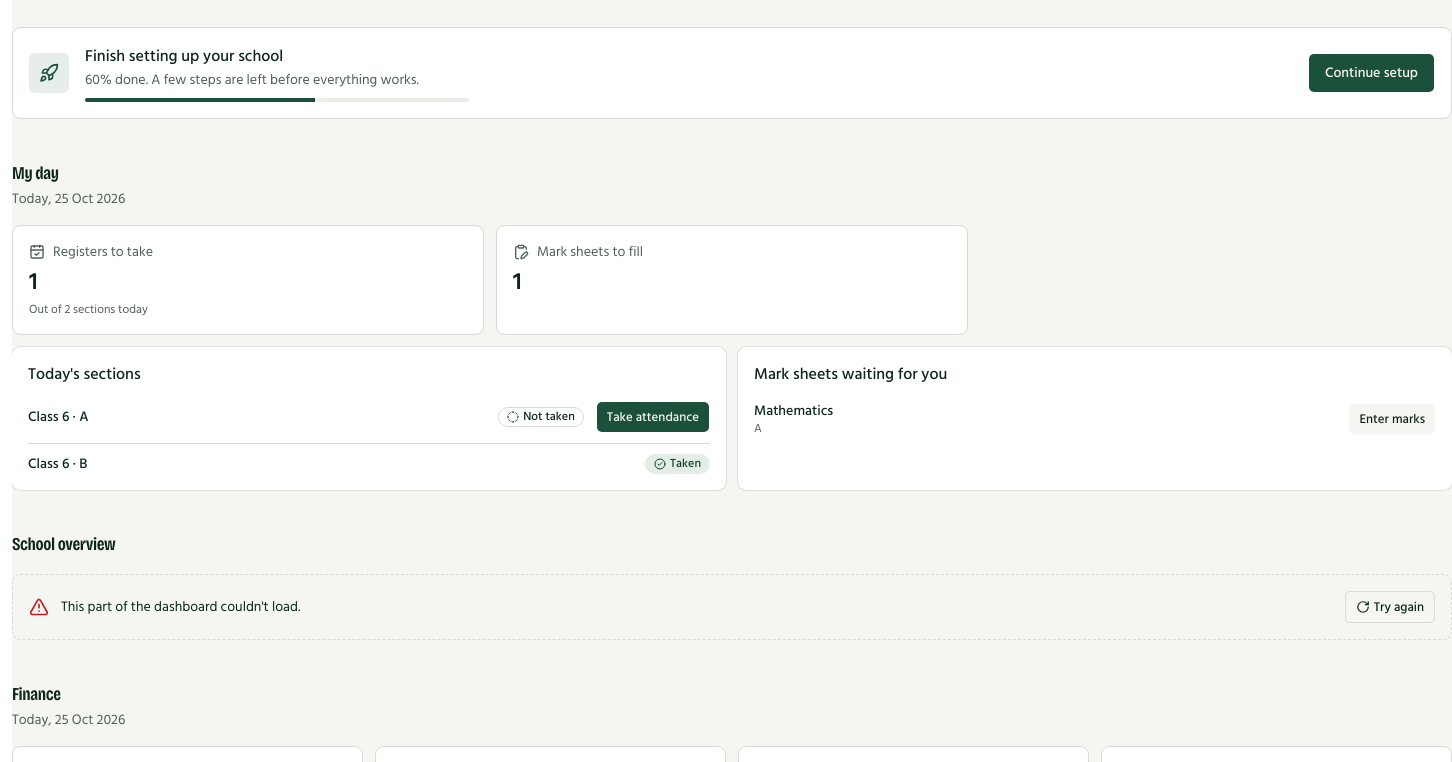
Test: HomeDashboard › keeps the other groups when one endpoint fails, and retries it
Check: the text "This part of the dashboard couldn't load." is shown, box [61,595,300,618]
Check: the text "Mathematics" is shown, box [754,399,833,422]
Click the button "Try again" at (1390, 607), box [1345,591,1435,623]
(page scrolled)
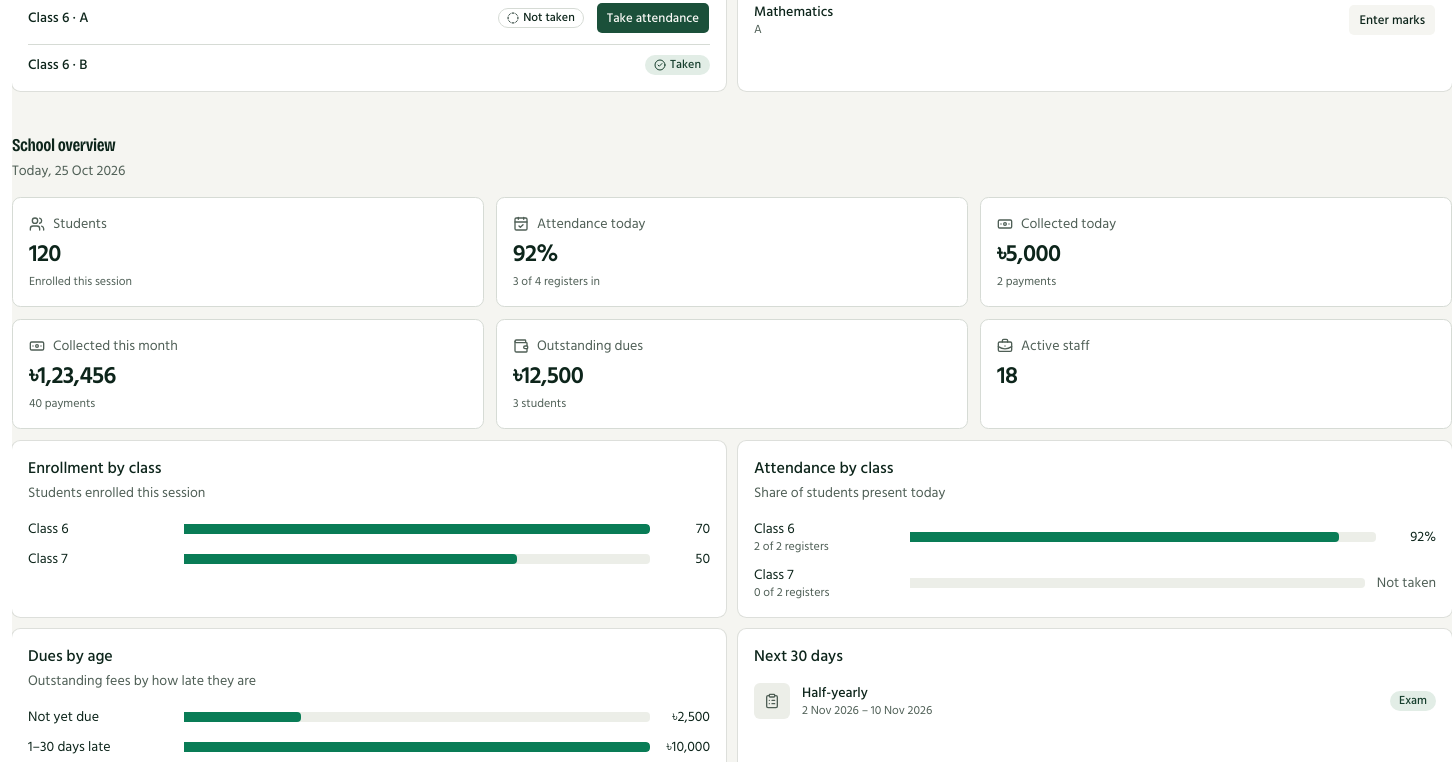
Check: the text "৳1,23,456" is shown, box [29,356,116,395]
